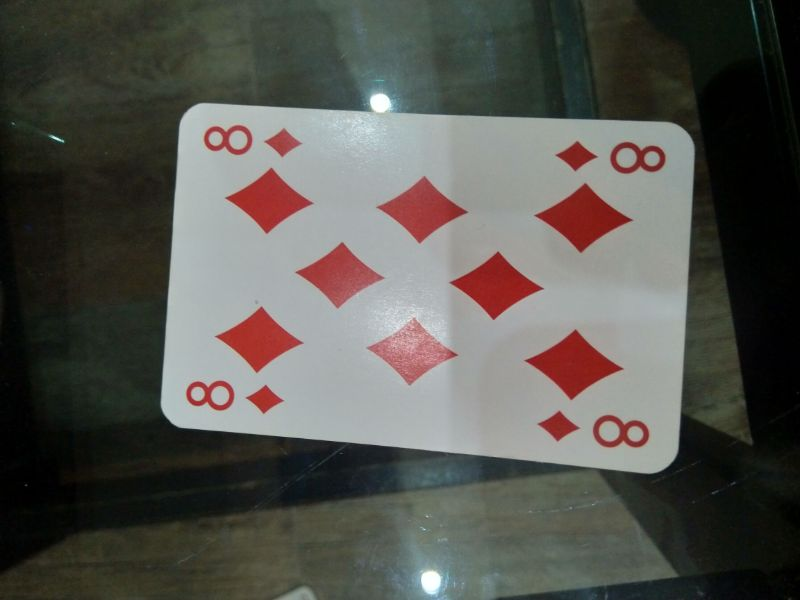8d: (530, 402, 656, 457), (550, 132, 678, 184), (196, 114, 312, 166), (180, 371, 288, 422)
